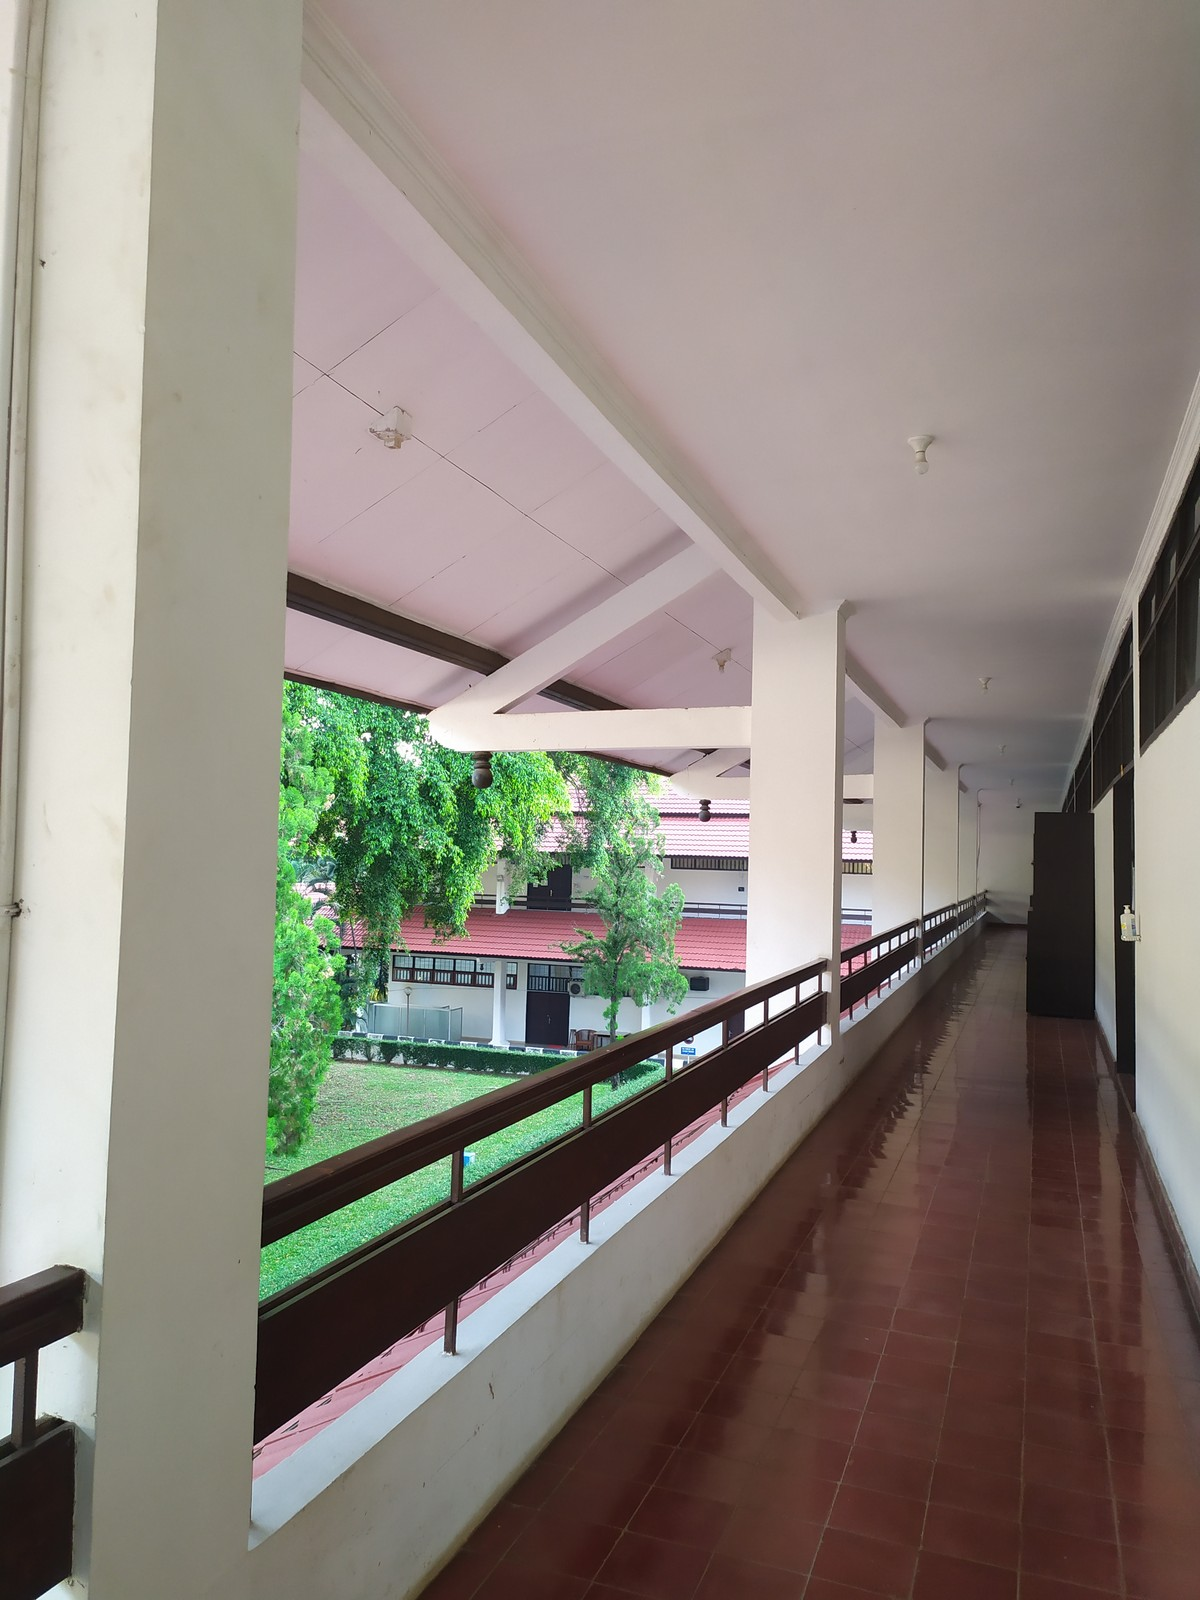concrete beam: (499, 703, 761, 757)
concrete column: (37, 16, 320, 1536), (742, 593, 851, 1029), (870, 708, 937, 952)
